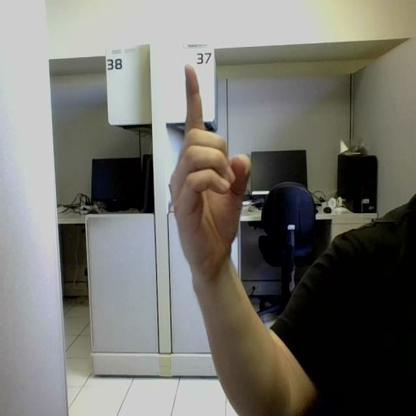D: (171, 66, 250, 272)
